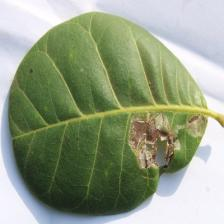leaf miner: (7, 11, 223, 216), (127, 111, 180, 170)
